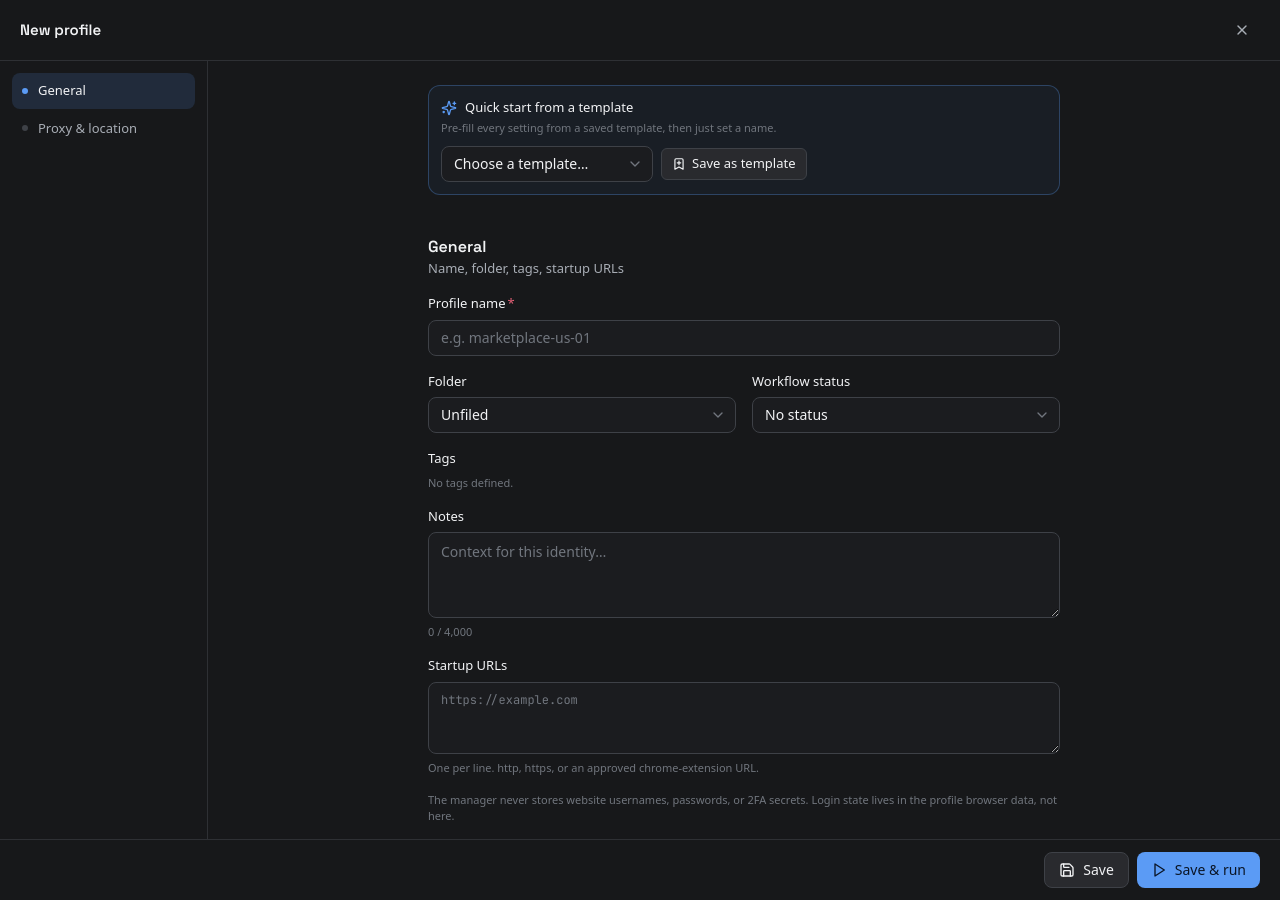
Scenario: ProfileWizardPage fingerprint coherence validation › blocks persistence and announces a localized validation request failure
Type "Offline guard" into the field with placeholder "e.g. marketplace-us-01" at (744,338), box [428,320,1060,356]
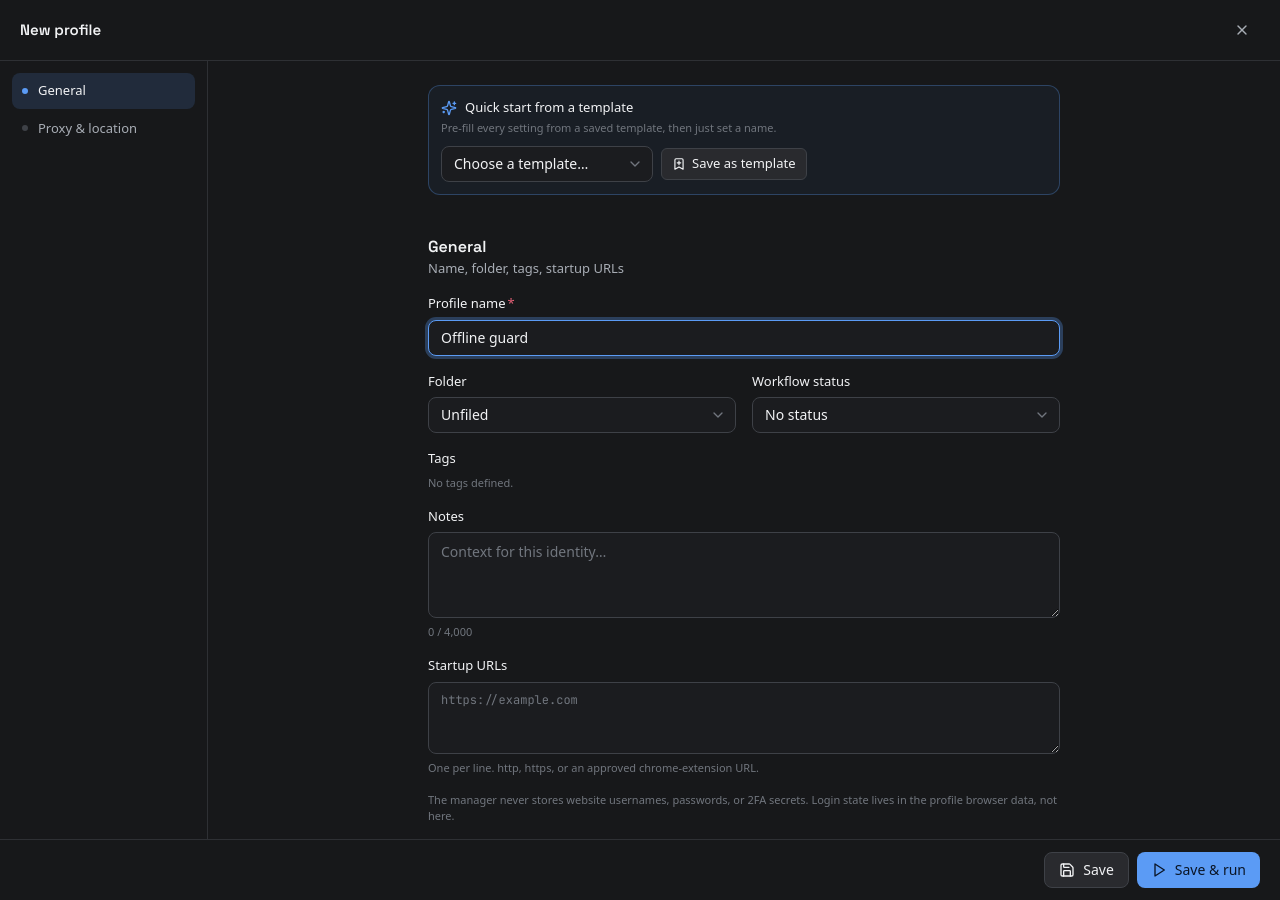
Click the button "Save" at (1087,870), box [1044,852,1129,888]
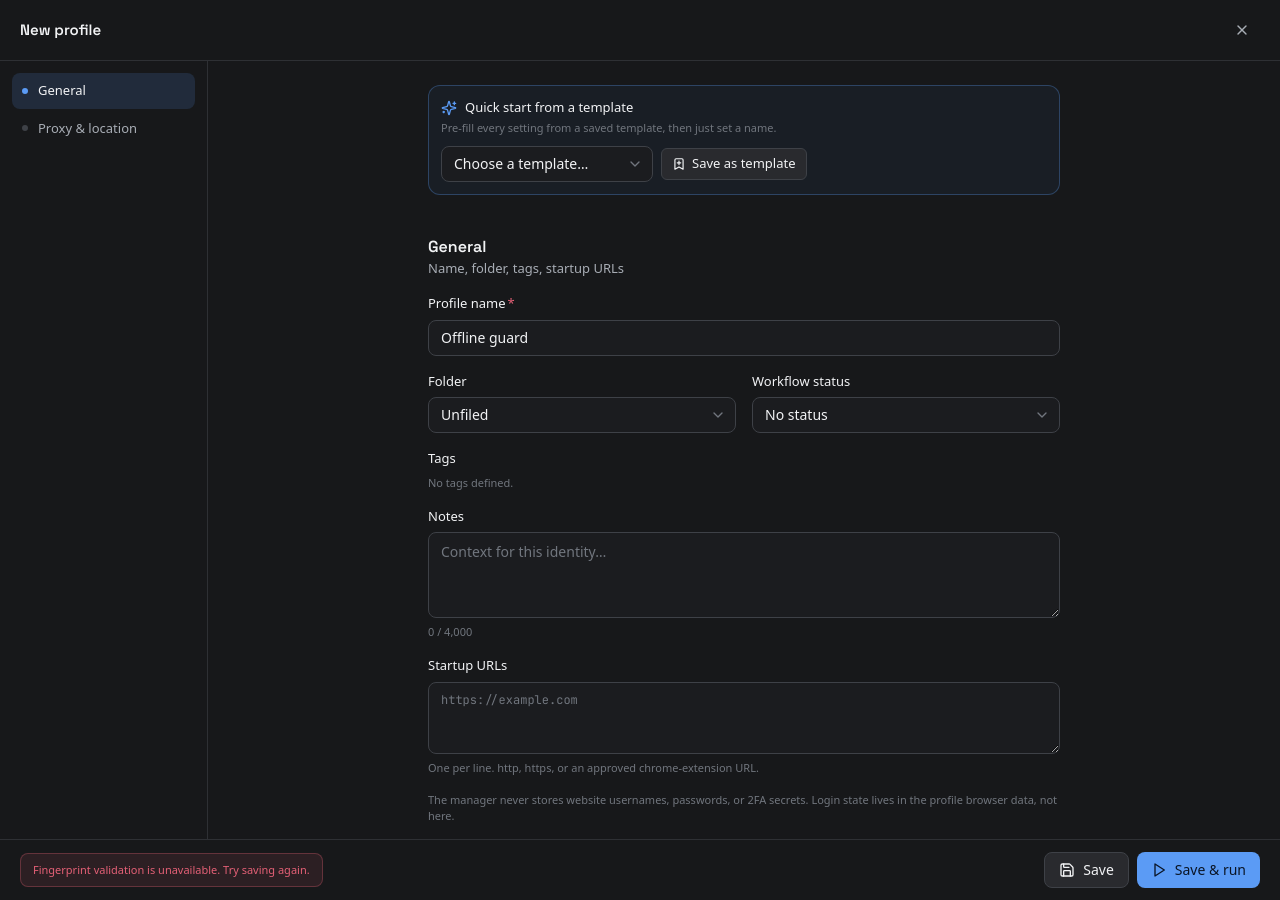
Expected: the message reads "Fingerprint validation is unavailable. Try saving again.", [33,862,310,877]
